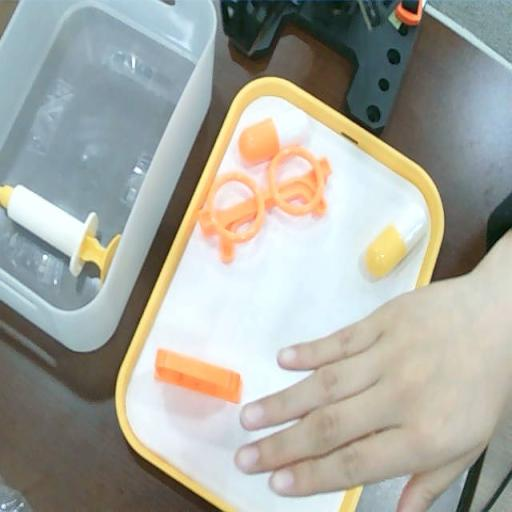hospital: (218, 219, 511, 512)
